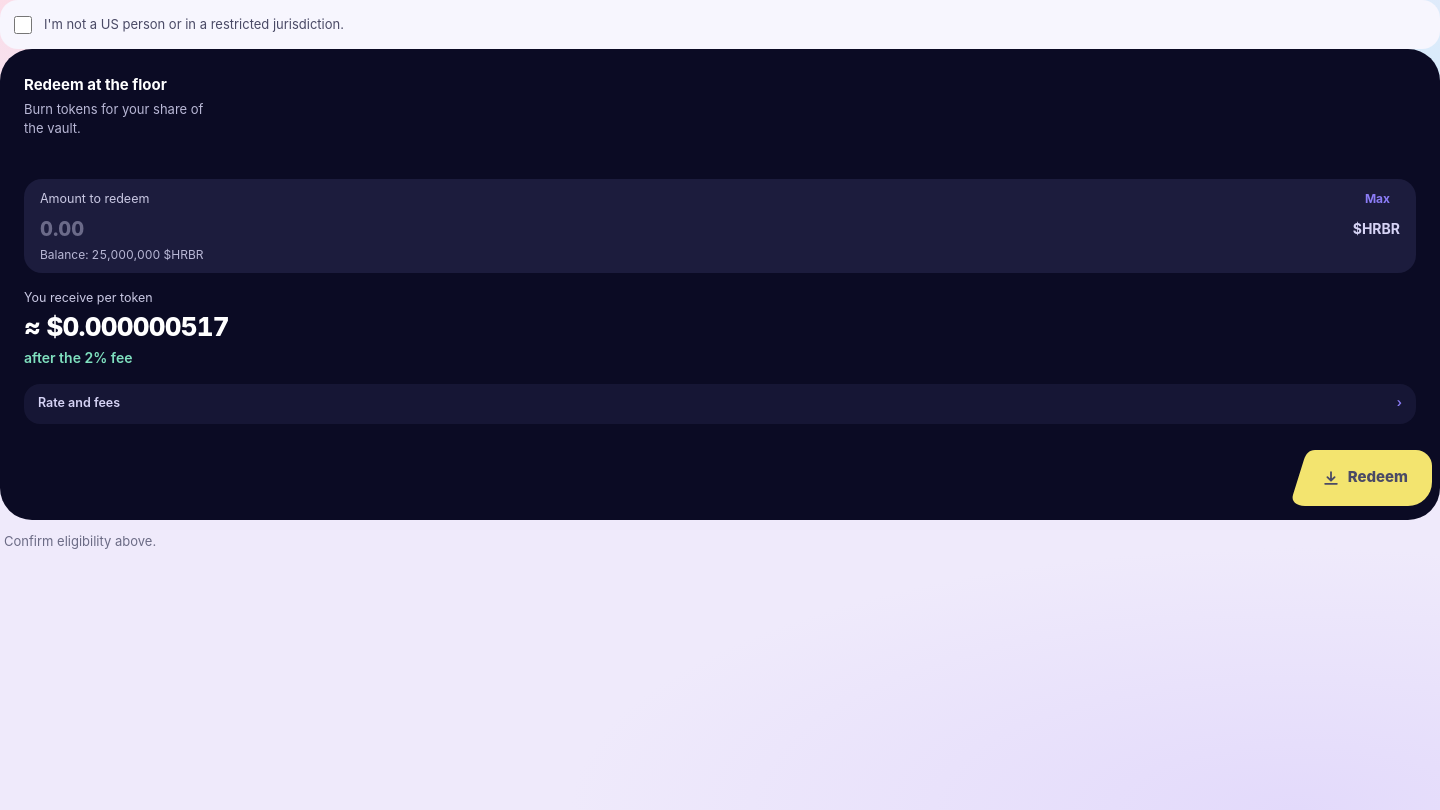
Test: <RedeemPanel /> › previews the payout with the SDK math and gates the action on the attestation
The image size is (1440, 810).
Check: the text "Balance: 25,000,000 $HRBR" is shown, box [40,247,204,262]
Type "1,000,000" into the field labelled "Amount to redeem" at [691, 229], box [40,211,1343,247]
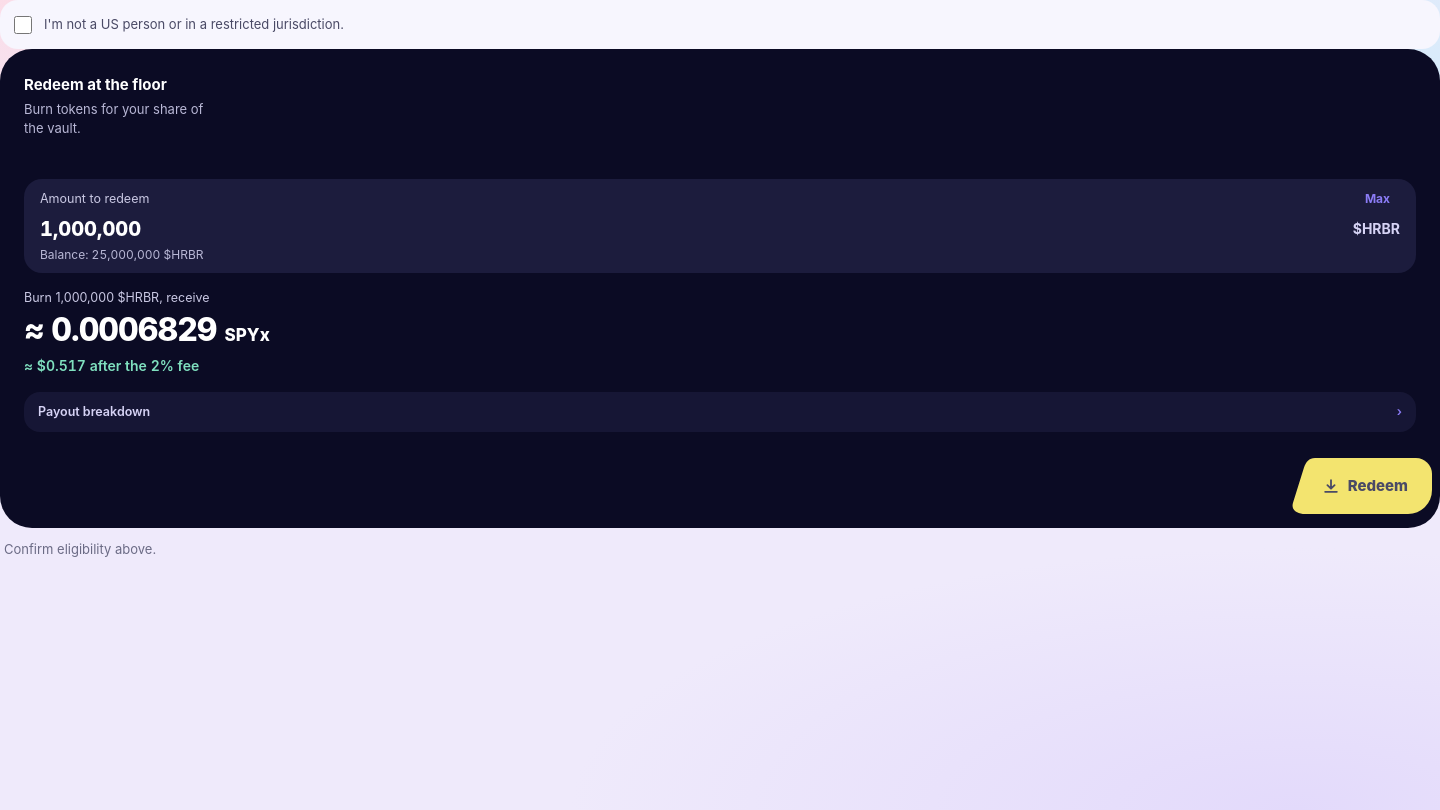
Check: the text "Confirm eligibility above." is shown, box [4,541,156,557]
Click the checkbox labelled "I'm not a US person or in a restricted jurisdiction." at [23, 25], box [14,16,32,34]
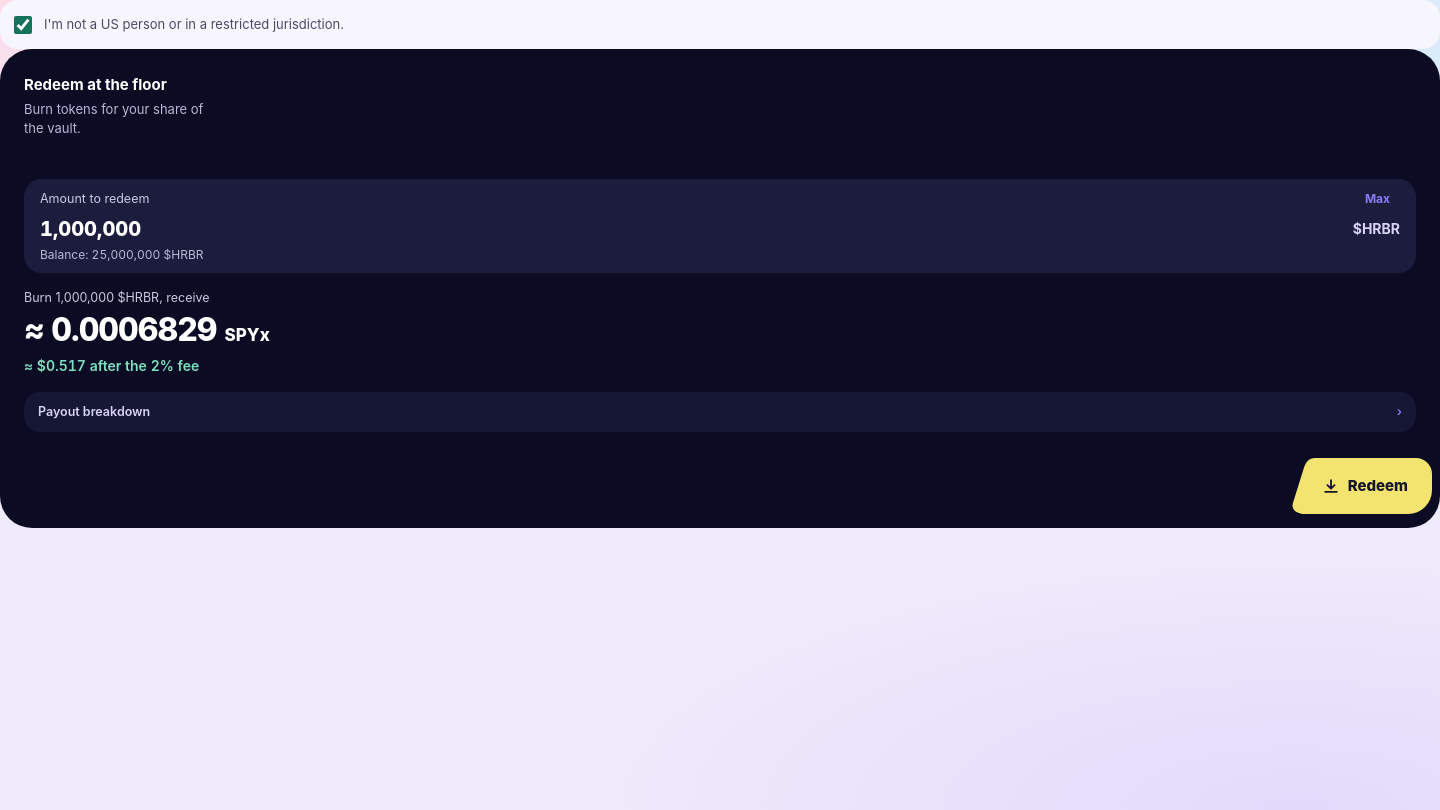
Click the button "Redeem" at [1361, 486], box [1291,458,1432,514]
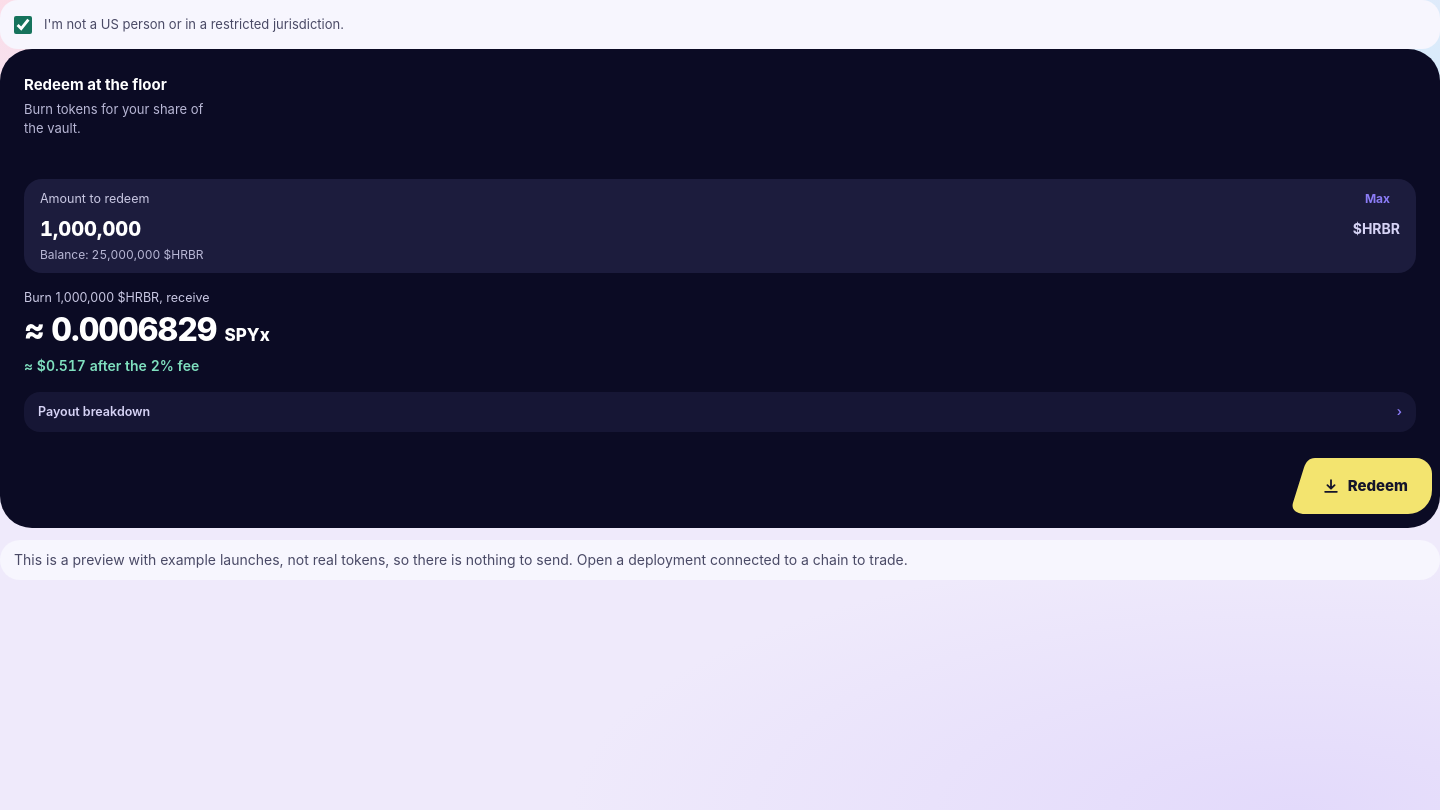
Check: the message shows "This is a preview with example launches, not real tokens, so there is nothing to send. Open a deployment connected to a chain to trade.", box [14,551,908,568]
